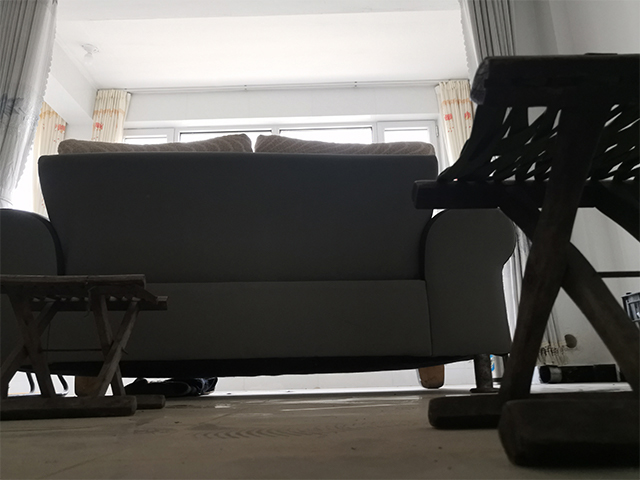sofa: (1, 131, 520, 397)
stool: (410, 51, 640, 469), (1, 272, 171, 418)
